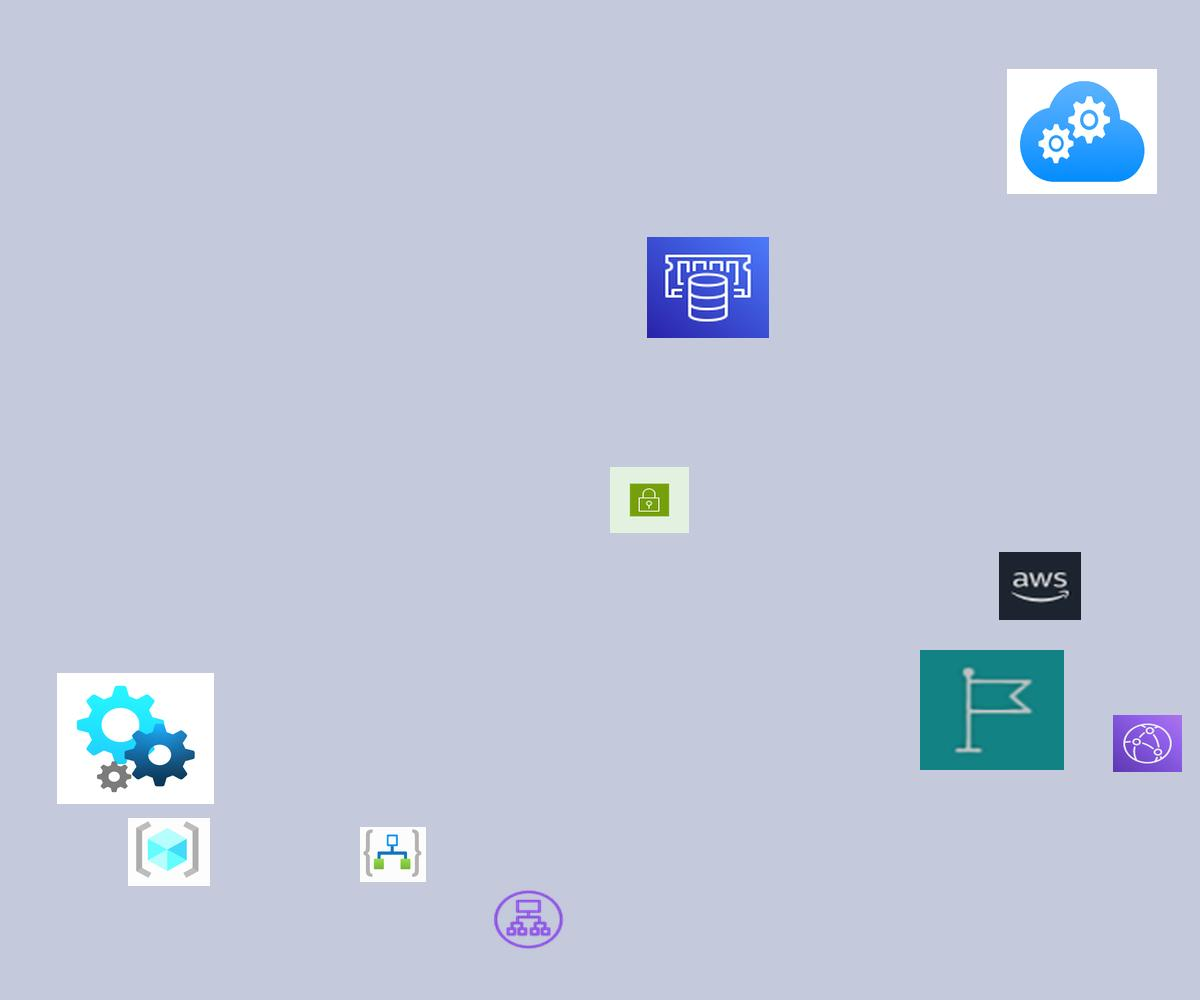AWS-Cloud-logo: (999, 552, 1081, 620)
AWS-CloudFront: (1113, 715, 1182, 772)
AWS-ElastiCache: (647, 237, 769, 338)
AWS-Public-subnet: (610, 467, 689, 533)
AWS-Region: (920, 650, 1064, 770)
AWS-Res_Elastic-Load-Balancing_Application-Load-Balancer: (491, 888, 566, 951)
Azure_api: (57, 673, 214, 804)
Azure_cloud_services: (1007, 69, 1157, 194)
Azure_integration-204-Logic-Apps: (360, 827, 426, 882)
Azure_resource_group: (128, 818, 210, 886)
